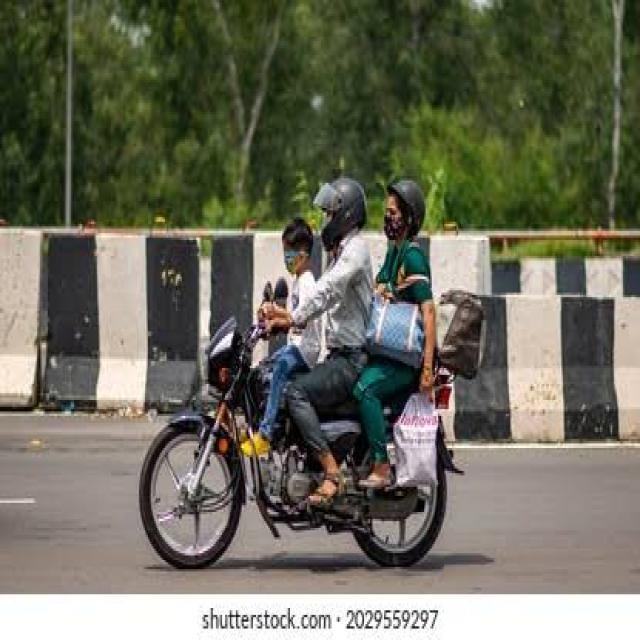triple_rider: (141, 170, 450, 567)
